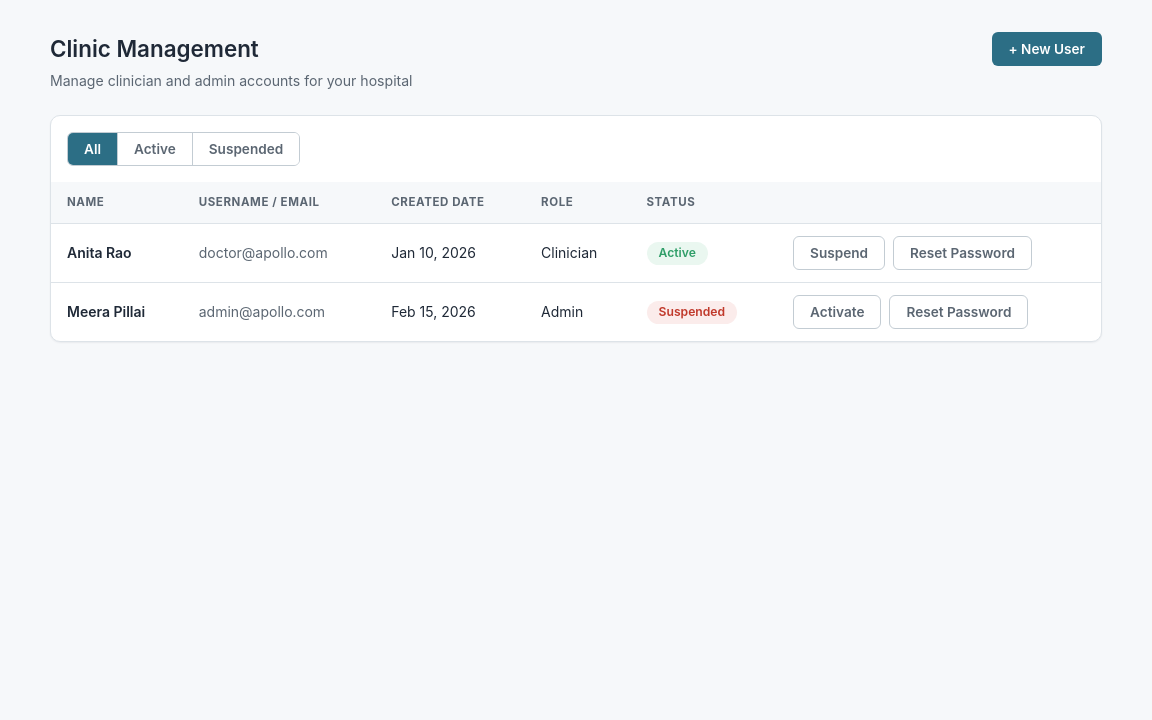
it: ClinicManagementComponent › validates required fields on the create-user form and does not submit
The image size is (1152, 720).
Step 1. Click the button with class "btn--primary" → (1047, 49), box [992,32,1102,66]
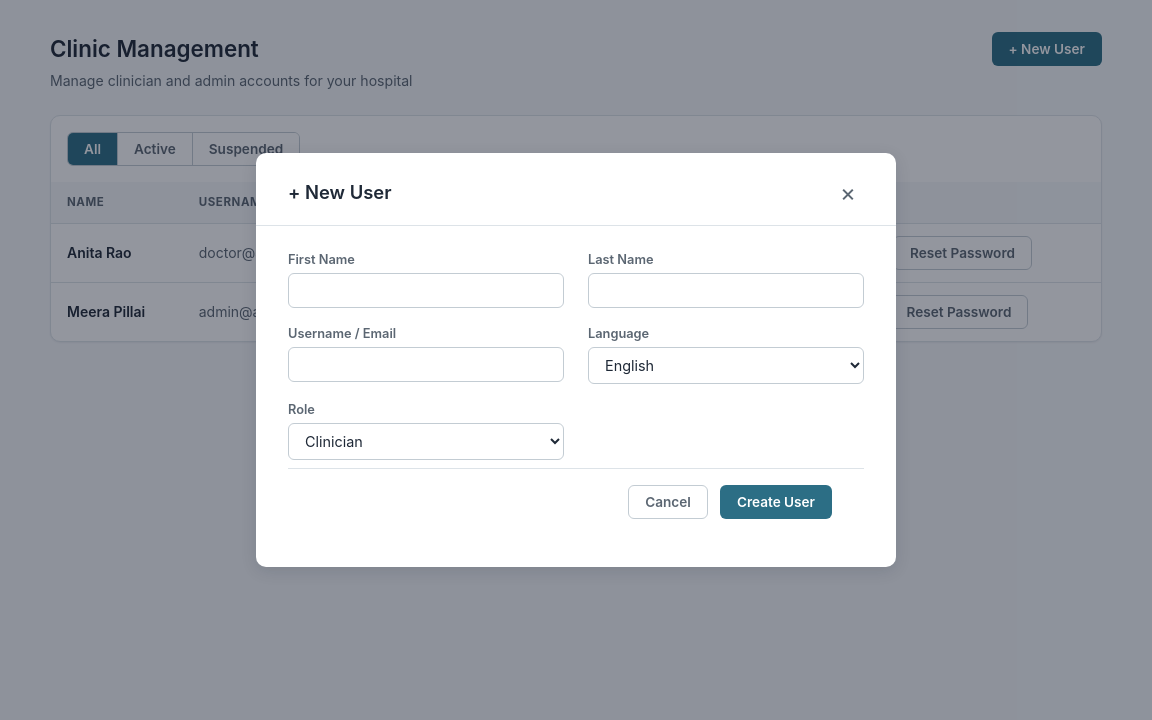
Step 2. Click the button "Create User" → (776, 502), box [720,485,832,519]
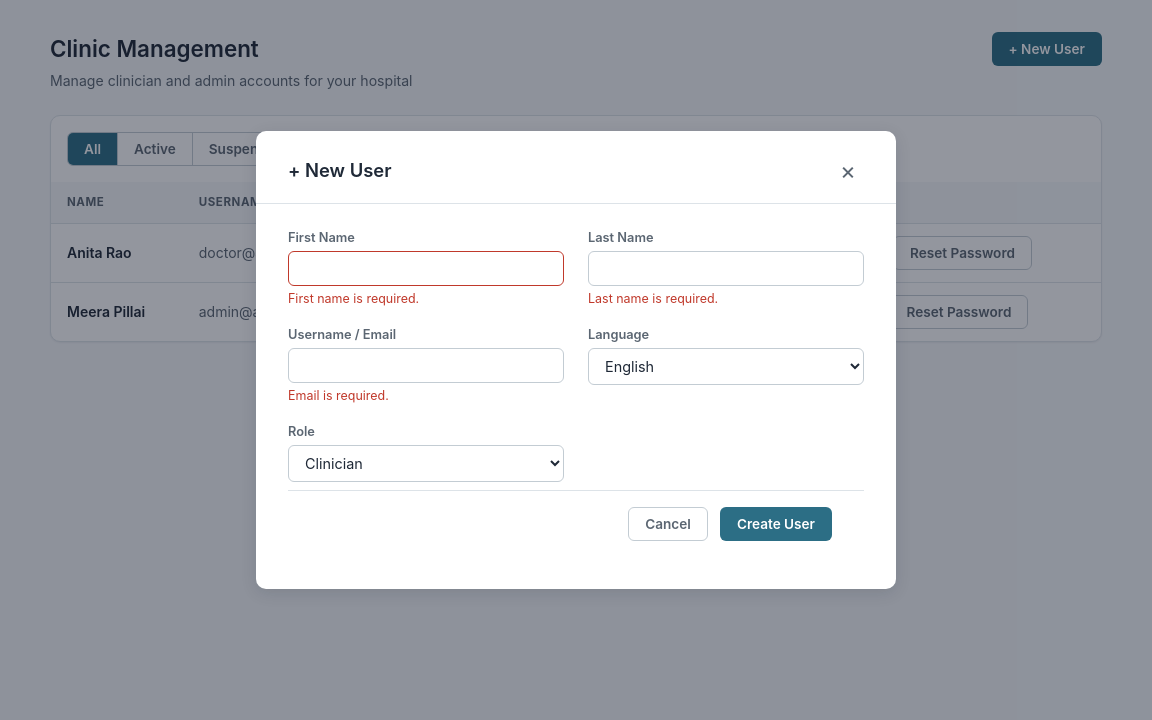
expect the text "First name is required." is shown: met, box [288,291,419,306]
expect the text "Last name is required." is shown: met, box [588,291,718,306]
expect the text "Email is required." is shown: met, box [288,388,389,403]
